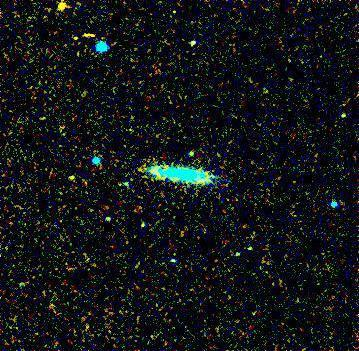star: (48, 0, 78, 22)
